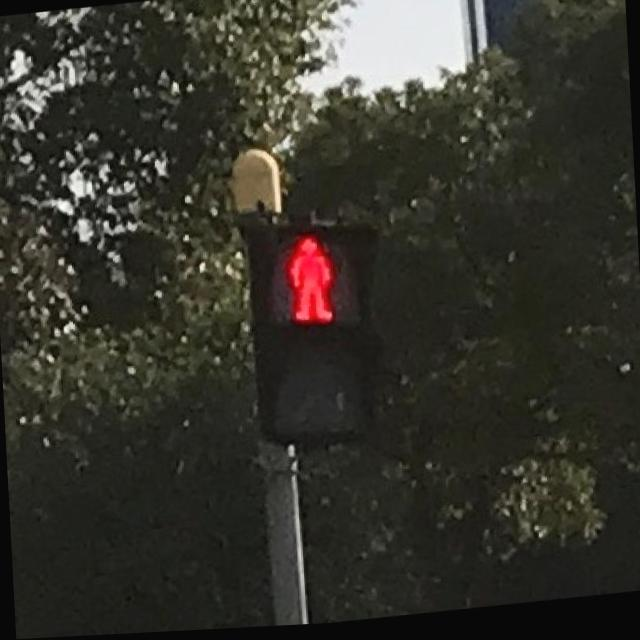red_light: (284, 234, 342, 329)
